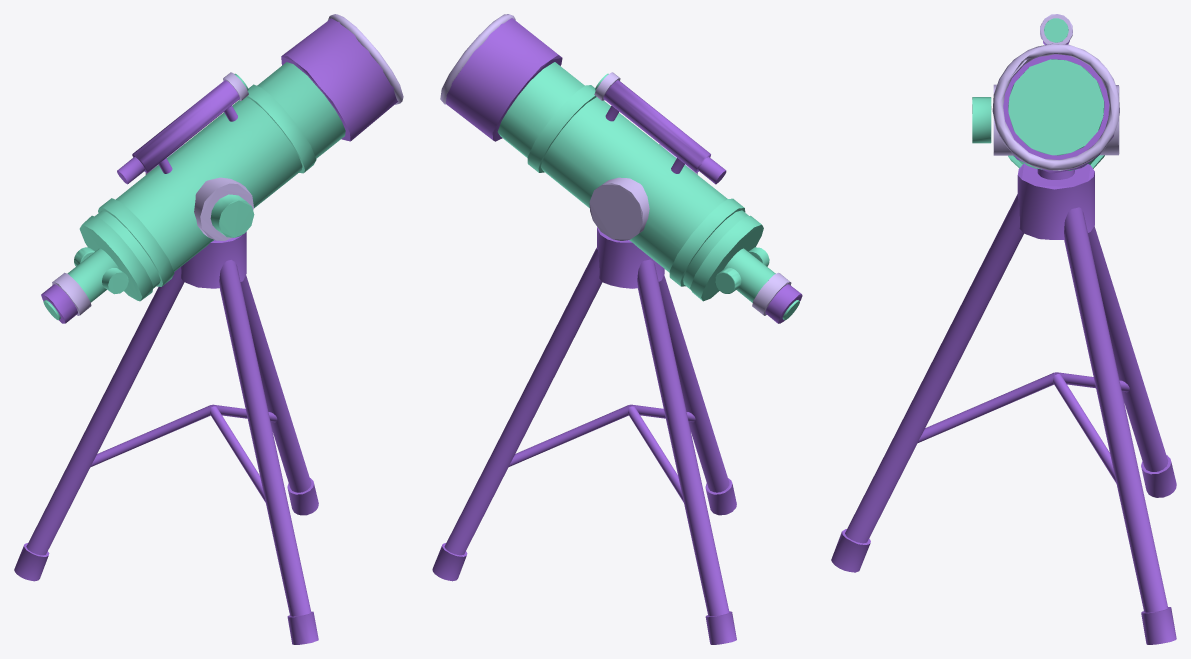
Rendered from telescope-9piW7RrV.glb.
The picture shows the model from 3 angles, left to right: view 1: azimuth 30°, elevation 25°; view 2: azimuth 150°, elevation 25°; view 3: azimuth 270°, elevation 25°; orthographic projection. The views are drawn at different scales.
Visible parts, largest first — view 1: Optical Tube • Barrel, Tripod • Leg 3, Objective • Hood, Tripod • Leg 2, Tripod • Leg 1, Finder • Mini Tube, Focuser • Rear Plate, Tripod • Hub, Mount • Altitude Bearing, Optical Tube • Support Band, Optical Tube • Support Band.001, Mount • Lock Knob (+9 smaller); view 2: Optical Tube • Barrel, Tripod • Leg 2, Tripod • Leg 1, Objective • Hood, Tripod • Leg 3, Mount • Altitude Bearing, Finder • Mini Tube, Focuser • Rear Plate, Tripod • Hub, Optical Tube • Support Band, Optical Tube • Support Band.001, Tripod • Brace 1 (+9 smaller); view 3: Tripod • Leg 1, Tripod • Leg 3, Objective • Blue Lens, Tripod • Leg 2, Tripod • Hub, Objective • Rim, Objective • Dark Recess, Tripod • Brace 3, Tripod • Brace 1, Tripod • Foot 1, Tripod • Foot 3, Mount • Lock Knob (+3 smaller).
Boxes of the visible parts, <box> form: Optical Tube • Barrel: <box>95,62,345,288</box>; Tripod • Leg 3: <box>219,260,311,616</box>; Objective • Hood: <box>281,18,398,141</box>; Tripod • Leg 2: <box>26,267,184,555</box>; Tripod • Leg 1: <box>240,275,311,492</box>; Finder • Mini Tube: <box>132,80,239,172</box>; Focuser • Rear Plate: <box>79,215,153,301</box>; Tripod • Hub: <box>181,232,246,288</box>; Mount • Altitude Bearing: <box>145,144,253,240</box>; Optical Tube • Support Band: <box>98,198,174,286</box>; Optical Tube • Support Band.001: <box>246,84,316,173</box>; Mount • Lock Knob: <box>210,194,254,237</box>; Optical Tube • Barrel: <box>497,62,748,289</box>; Tripod • Leg 2: <box>637,259,729,616</box>; Tripod • Leg 1: <box>444,247,602,555</box>; Objective • Hood: <box>446,18,562,141</box>; Tripod • Leg 3: <box>659,275,729,492</box>; Mount • Altitude Bearing: <box>589,144,697,240</box>; Finder • Mini Tube: <box>603,80,710,172</box>; Focuser • Rear Plate: <box>690,215,763,301</box>; Tripod • Hub: <box>597,227,664,288</box>; Optical Tube • Support Band: <box>669,198,745,286</box>; Optical Tube • Support Band.001: <box>527,85,596,172</box>; Tripod • Brace 1: <box>509,405,629,466</box>; Tripod • Leg 1: <box>1064,207,1168,612</box>; Tripod • Leg 3: <box>845,194,1023,543</box>; Objective • Blue Lens: <box>1008,59,1104,155</box>; Tripod • Leg 2: <box>1088,226,1168,471</box>; Tripod • Hub: <box>1017,163,1094,239</box>; Objective • Rim: <box>992,43,1119,170</box>; Objective • Dark Recess: <box>1003,54,1109,159</box>; Tripod • Brace 3: <box>918,372,1054,442</box>; Tripod • Brace 1: <box>1053,374,1116,483</box>; Tripod • Foot 1: <box>1141,607,1176,644</box>; Tripod • Foot 3: <box>831,529,870,572</box>; Mount • Lock Knob: <box>972,97,991,143</box>.
Size of the model in its own units: 1.39 by 2.04 by 1.07.
